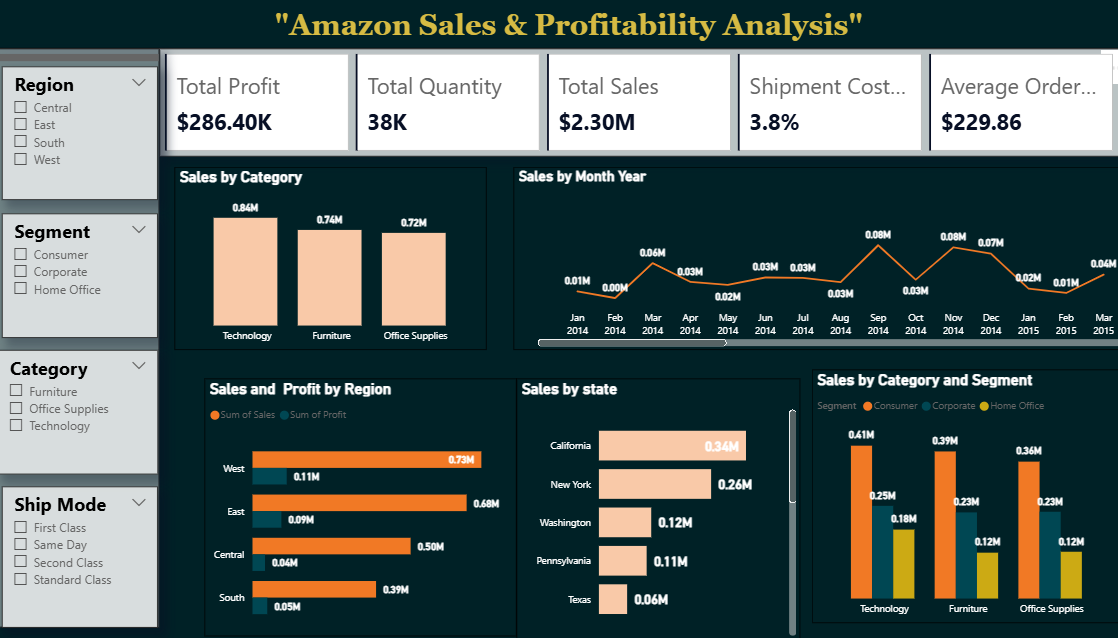

Layout of this report page (visuals, bound fields, positions):
{"tool":"powerbi","page":{"name":"Page 1","canvas":[1280,720],"ordinal":0},"visuals":[{"type":"textbox","box":[9.9,0,1257.3,67.9],"z":0},{"type":"cardVisual","fields":{"Data":["Amazon sales dataset.Total Profit","Amazon sales dataset.Total Quantity","Amazon sales dataset.Total Sales","Amazon sales dataset.Shipment Cost % of Sales","Amazon sales dataset.Average Order Value"]},"box":[187.2,67.9,1063.5,119.3],"z":1000},{"type":"textbox","box":[8.3,67.9,178.9,639.4],"z":2000},{"type":"lineChart","title":" Sales by Month Year","fields":{"Category":["Amazon sales dataset.Month Year"],"Y":["Sum(Amazon sales dataset.Sales)"]},"box":[578.1,198.8,702.3,202.1],"z":3000},{"type":"clusteredColumnChart","title":" Sales by Category and Segment","fields":{"Category":["Amazon sales dataset.Category"],"Series":["Amazon sales dataset.Segment"],"Y":["Sum(Amazon sales dataset.Sales)"]},"box":[907.8,422.4,342.9,279.9],"z":4000},{"type":"clusteredBarChart","title":"Sales and  Profit by Region","fields":{"Category":["Amazon sales dataset.Region"],"Y":["Sum(Amazon sales dataset.Sales)","Sum(Amazon sales dataset.Profit)"]},"box":[236.9,432.3,344.5,284.9],"z":5000},{"type":"slicer","fields":{"Values":["Amazon sales dataset.Region"]},"box":[13.3,87.8,172.3,147.4],"z":6000},{"type":"slicer","fields":{"Values":["Amazon sales dataset.Segment"]},"box":[13.3,250.1,172.3,137.5],"z":7000},{"type":"slicer","fields":{"Values":["Amazon sales dataset.Category"]},"box":[8.3,400.9,177.2,137.5],"z":8000},{"type":"slicer","fields":{"Values":["Amazon sales dataset.Ship Mode"]},"box":[13.3,551.6,172.3,155.7],"z":9000},{"type":"clusteredColumnChart","title":"Sales by Category","fields":{"Category":["Amazon sales dataset.Category"],"Y":["Sum(Amazon sales dataset.Sales)"]},"box":[203.7,198.8,344.5,202.1],"z":10000},{"type":"clusteredBarChart","title":" Sales by state","fields":{"Y":["Sum(Amazon sales dataset.Sales)"],"Category":["Amazon sales dataset.State"]},"box":[581.4,432.3,313.1,288.2],"z":11000}]}

Visuals, with their boxes in screenshot pixels (x1, y1, x2, y2), scaled from the page's 1280x720 canvas onto the 1118x638 screenshot:
textbox: <bbox>9, 0, 1107, 60</bbox>
cardVisual - Amazon sales dataset.Total Profit x Amazon sales dataset.Total Quantity: <bbox>164, 60, 1092, 166</bbox>
textbox: <bbox>7, 60, 164, 627</bbox>
" Sales by Month Year" lineChart: <bbox>505, 176, 1117, 355</bbox>
" Sales by Category and Segment" clusteredColumnChart: <bbox>793, 374, 1092, 622</bbox>
"Sales and  Profit by Region" clusteredBarChart: <bbox>207, 383, 508, 636</bbox>
slicer - Amazon sales dataset.Region: <bbox>12, 78, 162, 208</bbox>
slicer - Amazon sales dataset.Segment: <bbox>12, 222, 162, 343</bbox>
slicer - Amazon sales dataset.Category: <bbox>7, 355, 162, 477</bbox>
slicer - Amazon sales dataset.Ship Mode: <bbox>12, 489, 162, 627</bbox>
"Sales by Category" clusteredColumnChart: <bbox>178, 176, 479, 355</bbox>
" Sales by state" clusteredBarChart: <bbox>508, 383, 781, 637</bbox>
